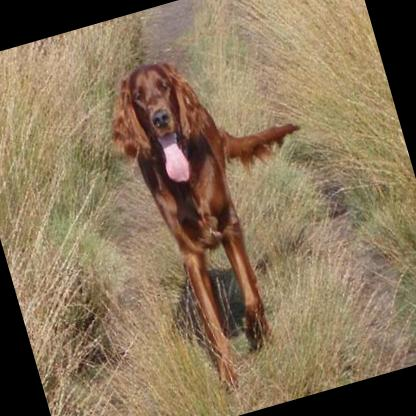Irish_setter: (90, 24, 364, 404)
